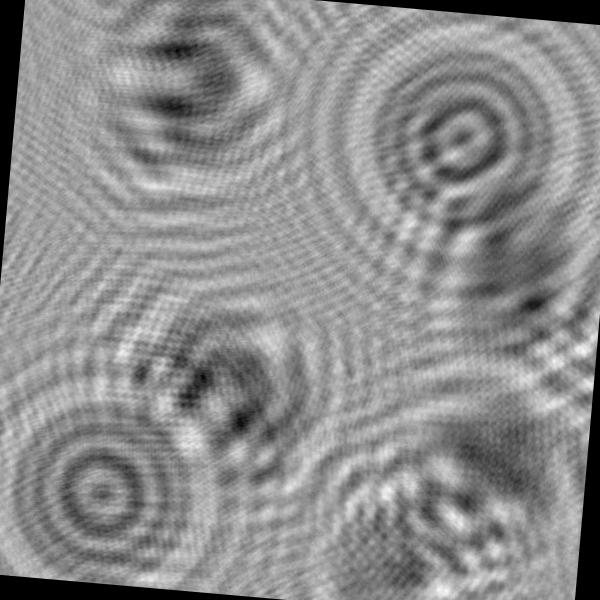K: (318, 355, 594, 600)
L: (271, 458, 538, 600)
M: (84, 250, 374, 544), (53, 0, 332, 244)
N: (369, 165, 600, 414)
O: (310, 1, 600, 258), (0, 383, 211, 592)
